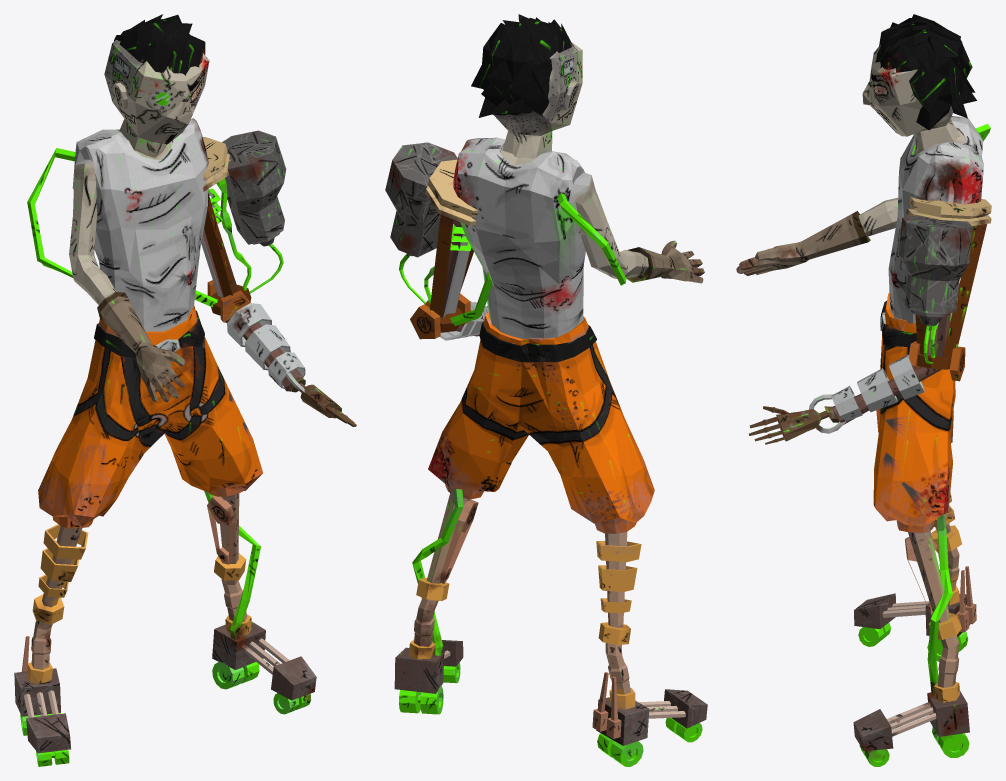
File: CyborgFINALAnimation_000029.obj
3 renders of one model, left to right at view 1: azimuth 30°, elevation 25°; view 2: azimuth 150°, elevation 25°; view 3: azimuth 270°, elevation 25°, orthographic. The views are drawn at different scales.
Visible parts, largest first — view 1: CyborgMesh_Cube.002; view 2: CyborgMesh_Cube.002; view 3: CyborgMesh_Cube.002.
Part boxes in pixels (box(x1,y1,x2,y2)): CyborgMesh_Cube.002: box(14, 14, 356, 766); CyborgMesh_Cube.002: box(385, 14, 707, 766); CyborgMesh_Cube.002: box(736, 14, 991, 766).
Bounding box in the file's own units: 4.02 × 9.65 × 3.25.
